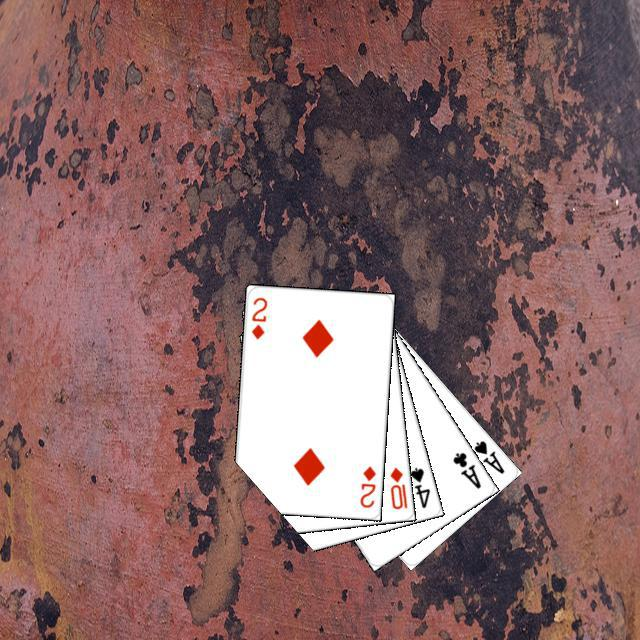10d: (385, 462, 409, 511)
2d: (246, 292, 269, 341), (355, 461, 378, 509)
4s: (405, 462, 432, 510)
Ac: (448, 447, 483, 491)
As: (469, 435, 506, 476)
